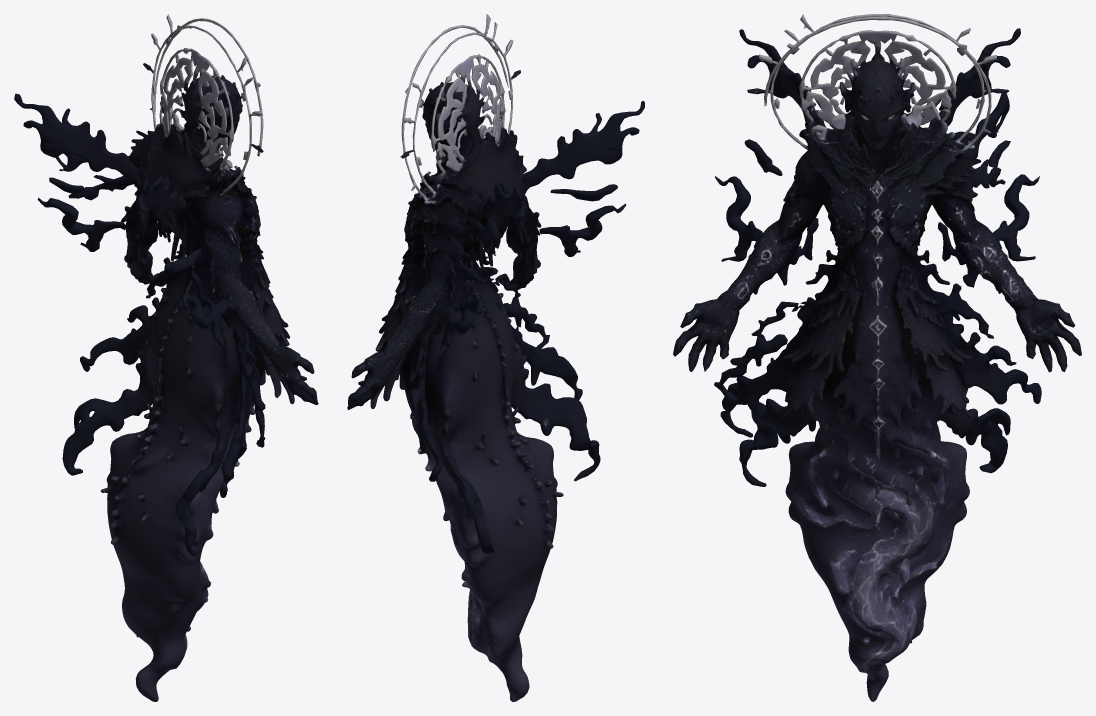
Rendered from shadow-god.glb.
3 views of the same model, side by side, from view 1: azimuth 30°, elevation 25°; view 2: azimuth 150°, elevation 25°; view 3: azimuth 270°, elevation 25° (orthographic). The views are drawn at different scales.
Visible parts, largest first — view 1: tripo_node_88bc4983-1a73-408b-ae91-b29ccc2ca5c9; view 2: tripo_node_88bc4983-1a73-408b-ae91-b29ccc2ca5c9; view 3: tripo_node_88bc4983-1a73-408b-ae91-b29ccc2ca5c9.
Boxes of the visible parts, bbox=[...] form: tripo_node_88bc4983-1a73-408b-ae91-b29ccc2ca5c9: bbox=[14, 14, 318, 701]; tripo_node_88bc4983-1a73-408b-ae91-b29ccc2ca5c9: bbox=[347, 14, 644, 701]; tripo_node_88bc4983-1a73-408b-ae91-b29ccc2ca5c9: bbox=[673, 14, 1081, 701].
Bounding box in the file's own units: 0.3086 × 1 × 0.5132.
1 material, 1 textured.
